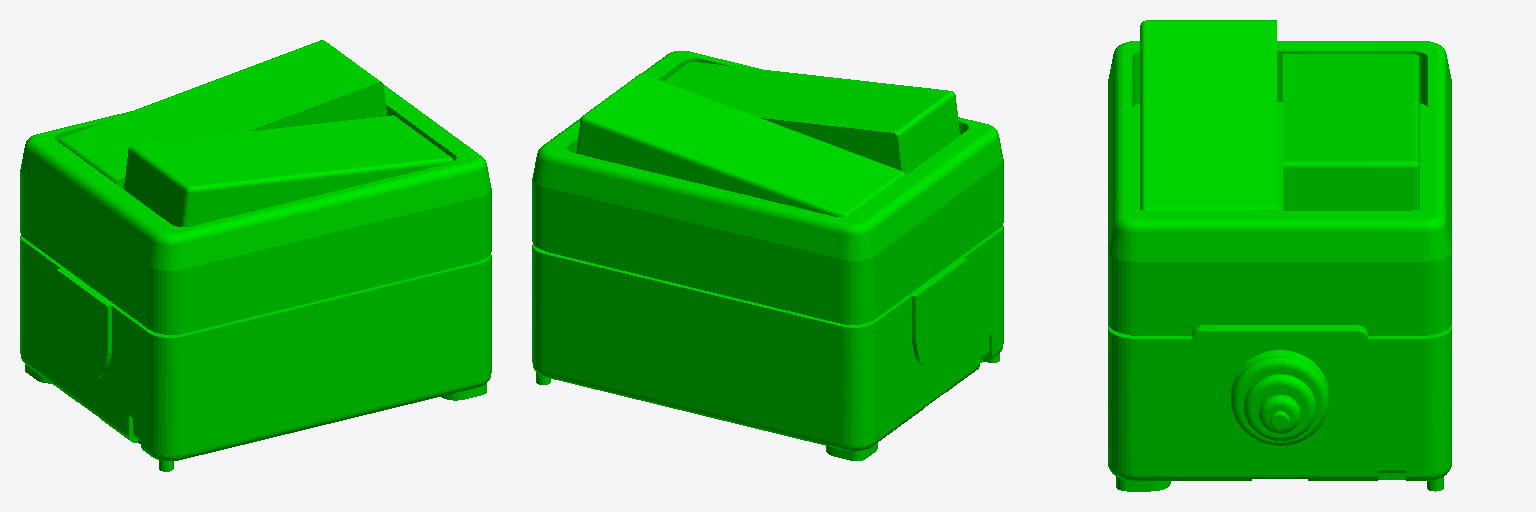
The robot description file, URDF, robot "obj_000025":
<?xml version="1.0"?>
<robot name="obj_000025">
   <link name="base_link">
      <visual>
         <geometry>
            <mesh filename="package://agimus_demo_05_pick_and_place/urdf/tless/obj_25.obj"
               scale="0.001 0.001 0.001" />
         </geometry>
         <material name="mat_part0">
            <color rgba="0.0 0.9 0.0 1.0" />
         </material>
      </visual>
      <collision>
         <geometry>
            <mesh filename="package://agimus_demo_05_pick_and_place/urdf/tless/obj_25.obj"
               scale="0.001 0.001 0.001" />
         </geometry>
      </collision>
      <inertial>
         <origin rpy="0 0 0" xyz="0.0 0.0 0.0" />
         <mass value="0.1" />
         <inertia ixx="1" ixy="0" ixz="0" iyy="1" iyz="0" izz="1" />
      </inertial>
   </link>
</robot>

--- Facts derived from the render (not from the file) ---
The picture shows the robot from 3 angles, left to right: view 1: azimuth 30°, elevation 25°; view 2: azimuth 150°, elevation 25°; view 3: azimuth 270°, elevation 25°; orthographic projection.
Model obj_000025 with 1 links and 0 joints (none), rooted at base_link, posed all joints at 0.
Links seen in each view (by area): view 1: base_link; view 2: base_link; view 3: base_link.
Boxes of the visible links, box(x1,y1,x2,y2) form: base_link: box(20, 40, 491, 471); base_link: box(532, 51, 1003, 460); base_link: box(1108, 20, 1451, 491).
Bounding box of the posed robot: 0.096 × 0.0615 × 0.0608 m (x, y, z).
Meshes: 1 distinct files referenced, 1 mesh visuals loaded (1 OBJ).
